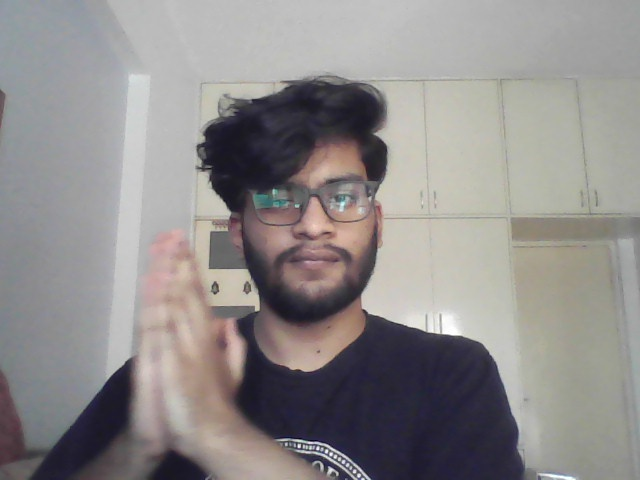Namaskara: (123, 224, 251, 469)
